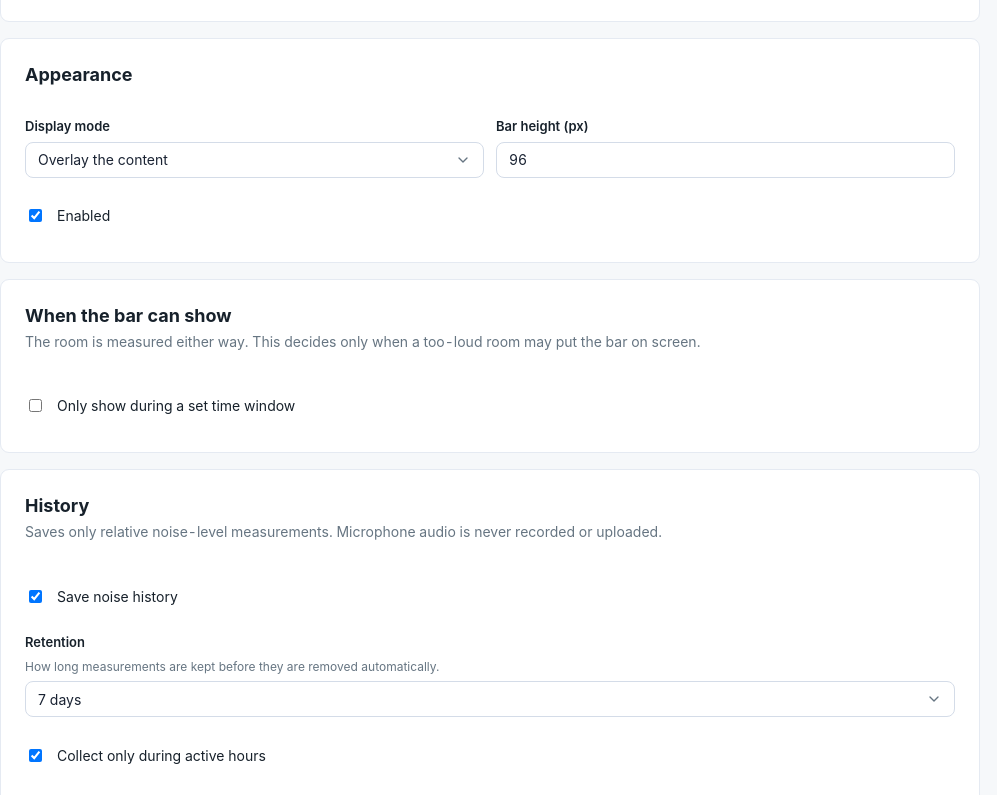
Scenario: Noise Meter › hides the window controls until a window is asked for
(page scrolled)
Check: the field labelled "From" is not shown
Click the checkbox labelled "Only show during a set time window" at (36, 406), box [29,399,42,412]
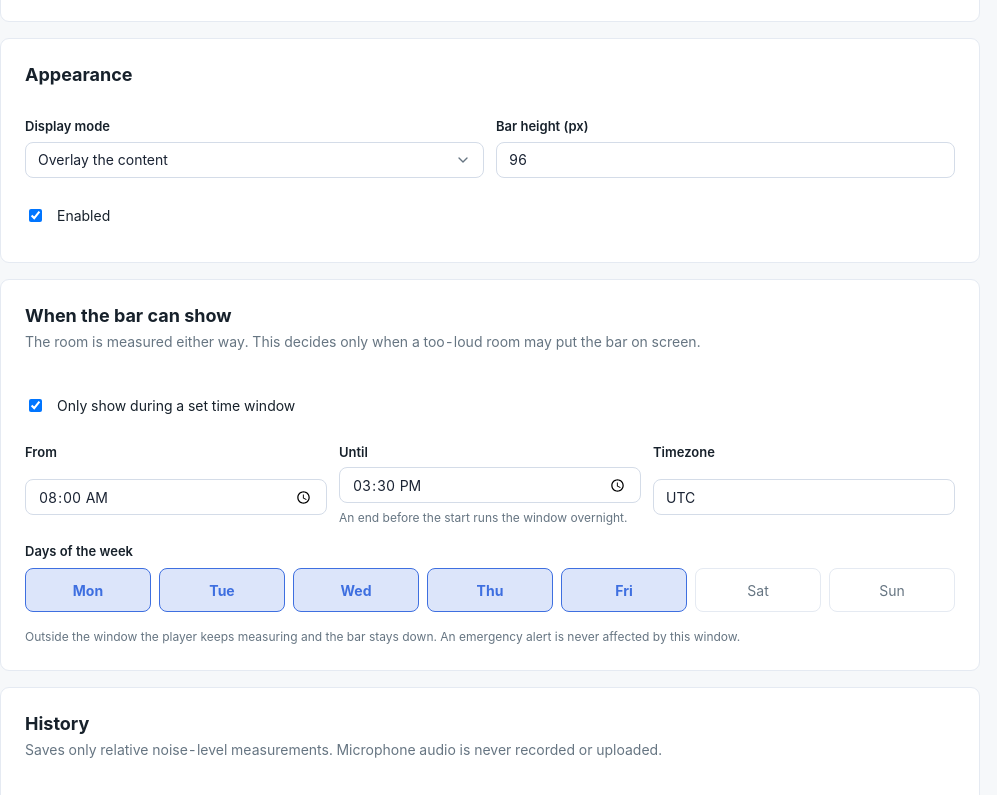
Check: the time field labelled "From" is shown, box [25,479,327,515]
Check: the time field labelled "Until An end before the start runs the window overnight." holds "15:30", box [339,468,641,504]
